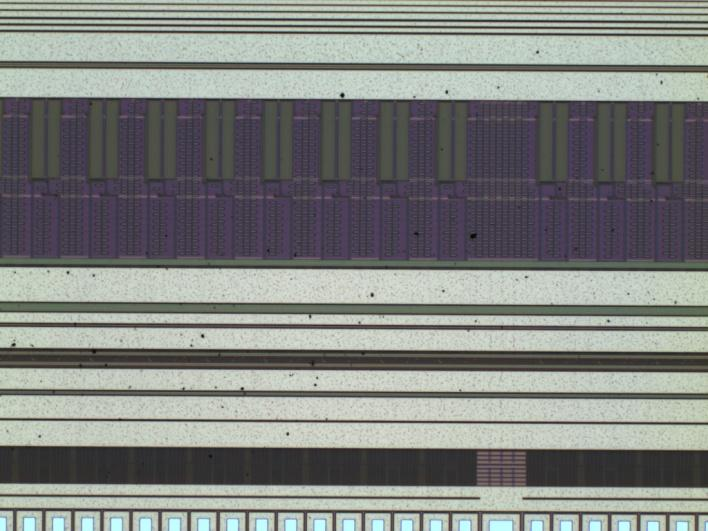PO CONTAMINATION: (3, 45, 708, 444)
